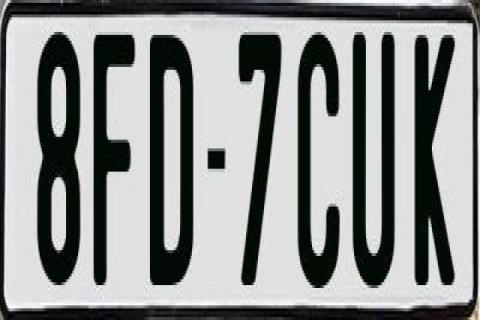0: (38, 32, 88, 300), (236, 29, 286, 297)
C: (296, 29, 342, 299)
D: (150, 29, 199, 282)
F: (92, 26, 134, 282)
K: (414, 35, 454, 303)
U: (350, 32, 393, 300)
